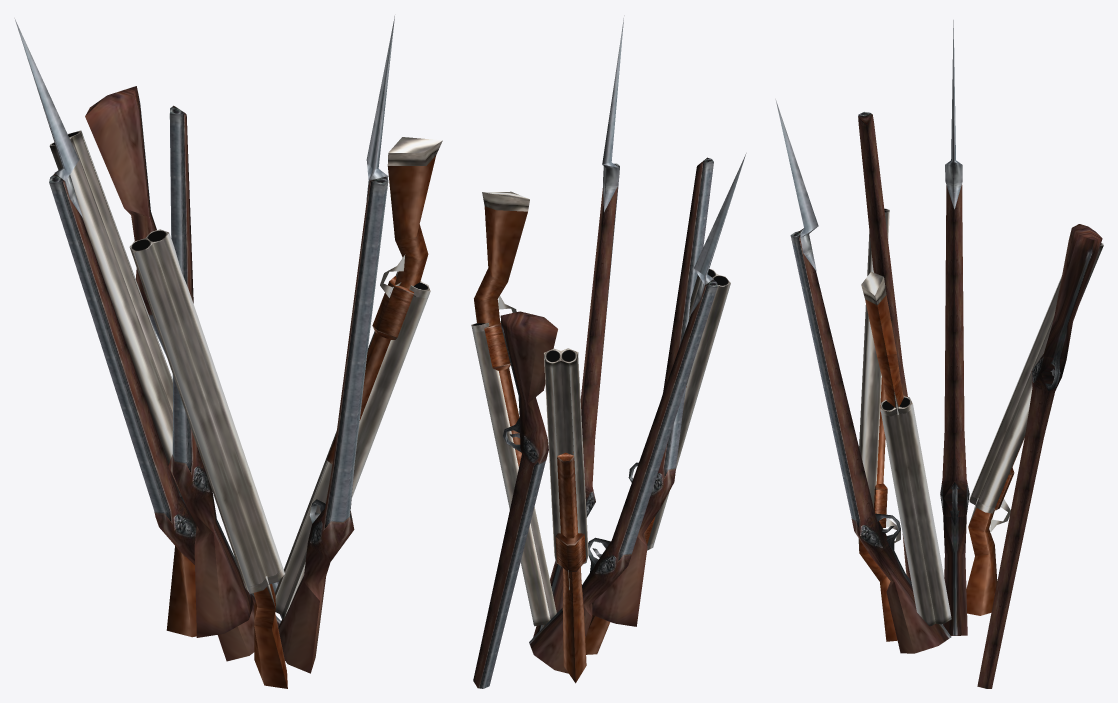
The model's file is shop_weapons_bucket_guns.fbx.
3 views of the same model, side by side, from view 1: azimuth 30°, elevation 25°; view 2: azimuth 150°, elevation 25°; view 3: azimuth 270°, elevation 25° (orthographic). The views are drawn at different scales.
Parts seen in each view (by area): view 1: double_barrel_pistol_mesh5, bayonet_mesh11, double_barrel_pistol_mesh9, bayonet_mesh4, bayonet_mesh5, double_barrel_pistol_mesh4, bayonet_mesh12; view 2: double_barrel_pistol_mesh9, bayonet_mesh4, bayonet_mesh12, double_barrel_pistol_mesh4, bayonet_mesh5, bayonet_mesh11, double_barrel_pistol_mesh5; view 3: bayonet_mesh11, double_barrel_pistol_mesh9, bayonet_mesh4, bayonet_mesh12, double_barrel_pistol_mesh4, double_barrel_pistol_mesh5, bayonet_mesh5.
Part boxes in pixels (x1=…): double_barrel_pistol_mesh5: x1=129, y1=229, x2=287, y2=688; bayonet_mesh11: x1=278, y1=16, x2=394, y2=673; double_barrel_pistol_mesh9: x1=275, y1=137, x2=442, y2=619; bayonet_mesh4: x1=14, y1=18, x2=280, y2=661; bayonet_mesh5: x1=168, y1=105, x2=253, y2=637; double_barrel_pistol_mesh4: x1=49, y1=130, x2=196, y2=637; bayonet_mesh12: x1=85, y1=86, x2=282, y2=618; double_barrel_pistol_mesh9: x1=471, y1=191, x2=556, y2=626; bayonet_mesh4: x1=529, y1=153, x2=746, y2=673; bayonet_mesh12: x1=473, y1=311, x2=557, y2=688; double_barrel_pistol_mesh4: x1=543, y1=348, x2=588, y2=683; bayonet_mesh5: x1=592, y1=157, x2=713, y2=626; bayonet_mesh11: x1=533, y1=15, x2=624, y2=637; double_barrel_pistol_mesh5: x1=585, y1=269, x2=730, y2=654; bayonet_mesh11: x1=775, y1=99, x2=951, y2=653; double_barrel_pistol_mesh9: x1=861, y1=272, x2=951, y2=626; bayonet_mesh4: x1=940, y1=20, x2=969, y2=635; bayonet_mesh12: x1=977, y1=224, x2=1102, y2=688; double_barrel_pistol_mesh4: x1=966, y1=243, x2=1103, y2=615; double_barrel_pistol_mesh5: x1=858, y1=208, x2=900, y2=641; bayonet_mesh5: x1=858, y1=112, x2=911, y2=580.
Size of the model in its own units: 282 by 530 by 274.
1 material, 1 textured.
